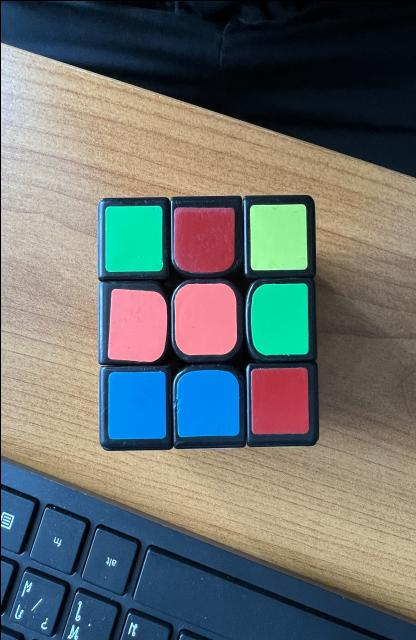Blue: (176, 369, 238, 436), (107, 370, 166, 439)
Green: (250, 282, 308, 354), (104, 205, 162, 271)
Orange: (173, 282, 236, 354), (107, 288, 166, 361)
Red: (172, 206, 234, 272), (250, 366, 308, 434)
Yellow: (249, 202, 307, 270)
